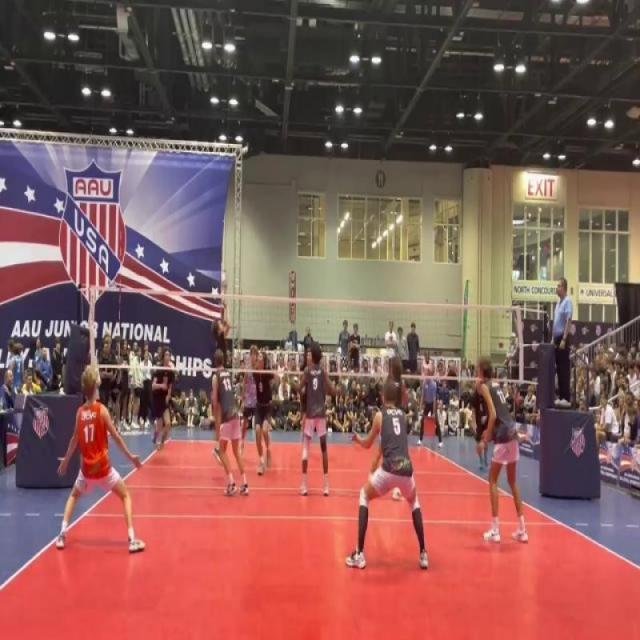volleyball: (218, 274, 229, 294)
